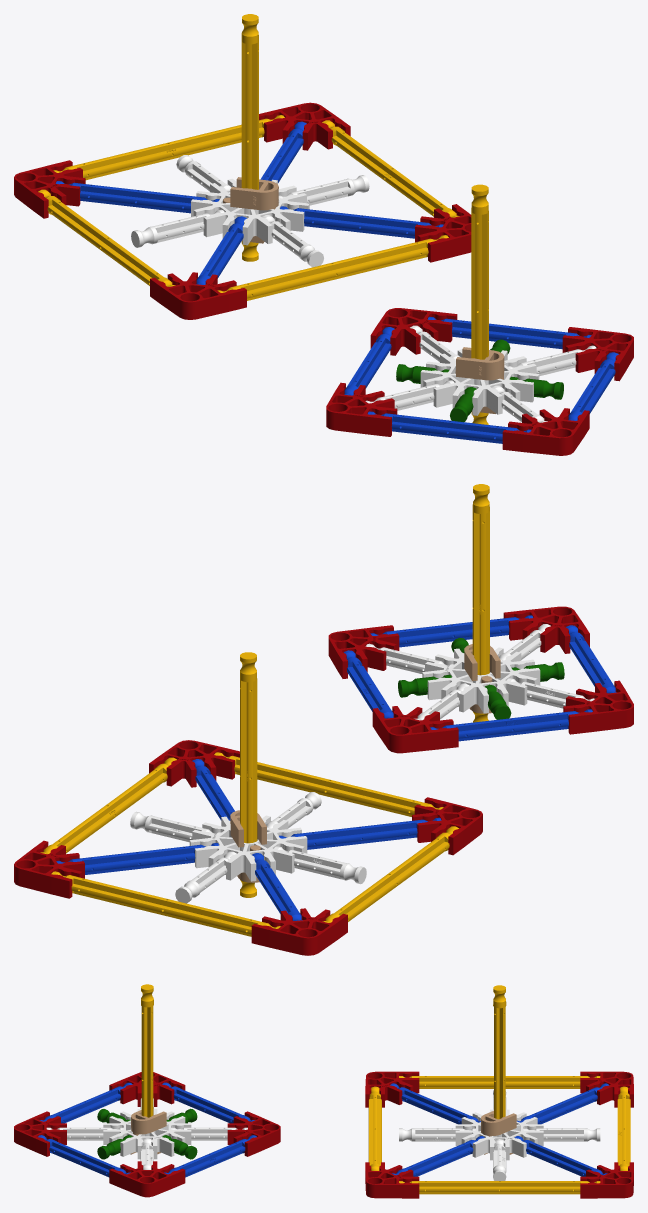
3 views of the same model, one above another, from view 1: azimuth 30°, elevation 25°; view 2: azimuth 150°, elevation 25°; view 3: azimuth 270°, elevation 25° (orthographic). The views are drawn at different scales.
Visible parts, largest first — view 1: Untitled.1997, Untitled.2004, Untitled.2018, Untitled.2001, Untitled.1987, Untitled.2020, Untitled.2013, Untitled.1999, Untitled.1998, Untitled.2007, Untitled.2009, Untitled.2017 (+22 smaller); view 2: Untitled.2004, Untitled.1997, Untitled.2001, Untitled.2020, Untitled.1987, Untitled.2007, Untitled.2018, Untitled.2017, Untitled.1998, Untitled.2009, Untitled.2013, Untitled.2023 (+19 smaller); view 3: Untitled.2019, Untitled.1997, Untitled.2004, Untitled.2014, Untitled.2000, Untitled.1987, Untitled.2023, Untitled.2001, Untitled.2009, Untitled.2017, Untitled.1999, Untitled.2013 (+22 smaller).
Boxes of the visible parts, x1,y1,x2,y2 form: Untitled.1997: (420,349,539,415); Untitled.2004: (191,178,309,245); Untitled.2018: (217,235,448,300); Untitled.2001: (241,14,258,261); Untitled.1987: (471,184,488,424); Untitled.2020: (53,115,284,180); Untitled.2013: (150,272,246,319); Untitled.1999: (502,408,589,455); Untitled.1998: (326,382,397,436); Untitled.2007: (14,160,85,218); Untitled.2009: (259,102,350,150); Untitled.2017: (370,308,457,355); Untitled.2004: (189,815,307,881); Untitled.1997: (422,647,540,713); Untitled.2001: (240,652,257,897); Untitled.2020: (51,871,280,936); Untitled.1987: (472,484,489,722); Untitled.2007: (251,908,347,955); Untitled.2018: (214,752,443,816); Untitled.2017: (372,706,458,753); Untitled.1998: (563,680,633,734); Untitled.2009: (14,840,84,898); Untitled.2013: (412,797,482,855); Untitled.2023: (149,740,239,787); Untitled.2019: (399,1181,600,1194); Untitled.1997: (103,1109,191,1159); Untitled.2004: (455,1109,543,1160); Untitled.2014: (399,1076,600,1088); Untitled.2000: (109,1161,185,1197); Untitled.1987: (141,984,153,1117); Untitled.2023: (365,1162,419,1198); Untitled.2001: (493,985,506,1119); Untitled.2009: (580,1162,633,1198); Untitled.2017: (227,1111,280,1156); Untitled.1999: (14,1111,66,1156); Untitled.2013: (365,1071,419,1107).
Size of the model in its own units: 1.13 by 0.843 by 2.6.
